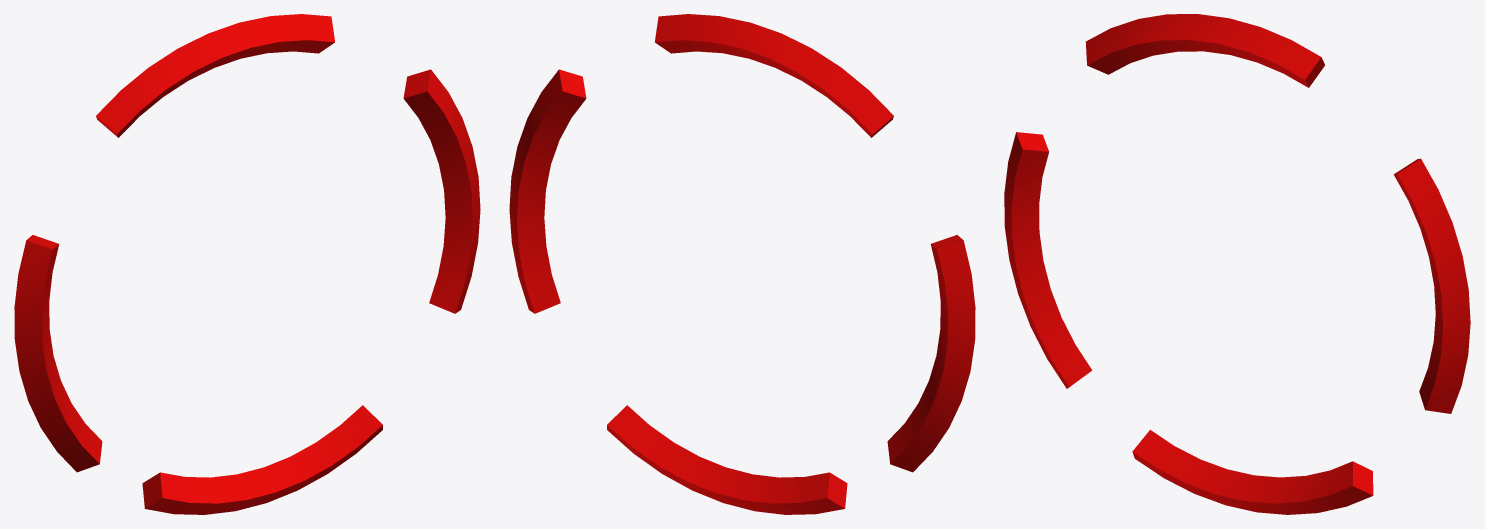
File: SM_StarPostRing.fbx
3 renders of one model, left to right at view 1: azimuth 30°, elevation 25°; view 2: azimuth 150°, elevation 25°; view 3: azimuth 330°, elevation 25°, orthographic.
Parts seen in each view (by area): view 1: Cube; view 2: Cube; view 3: Cube.
Part boxes in pixels (x1,y1,x2,y2): Cube: [14, 14, 480, 514]; Cube: [509, 14, 975, 514]; Cube: [1004, 14, 1470, 514].
Bounding box in the file's own units: 539 × 539 × 40.37.
